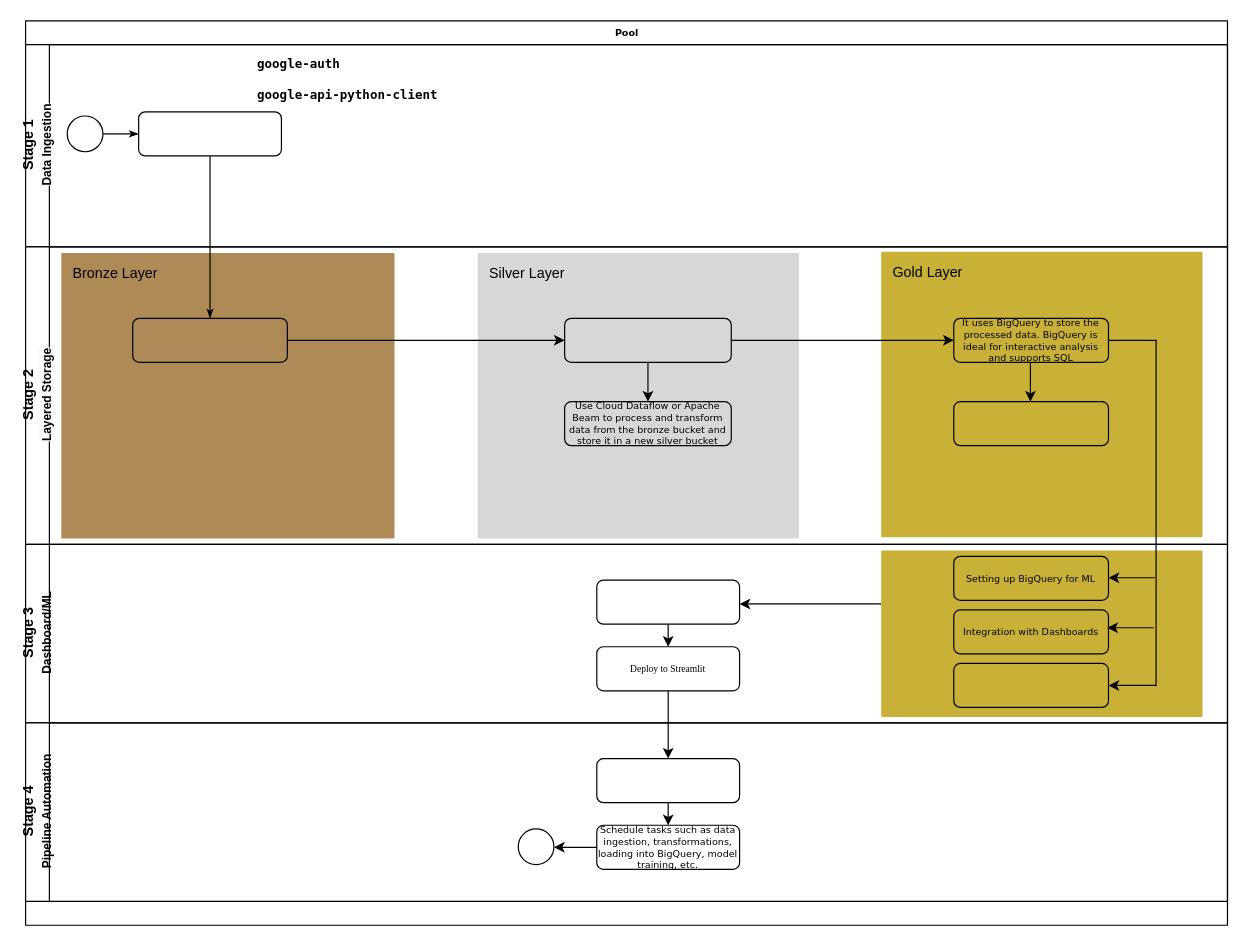
Image size: 1248x946. Some labels were removed from this diagram. The centre of each missing label's shape, as x and y in pixels:
"Create a bucket in Google Cloud Storage to store raw raw data" goes at [209,339].
"Create dashboards with Looker" goes at [668,601].
"Performs data cleaning, normalization, etc." goes at [647,339].
"Schedule data loading from the silver bucket to BigQuery." goes at [1030,423].
"Set up Google Cloud Composer to orchestrate and automate your data pipeline" goes at [668,780].
"Training ML Models" goes at [1030,684].
"Using the Google Drive API to access and download data from the shared Drive." goes at [209,133].
